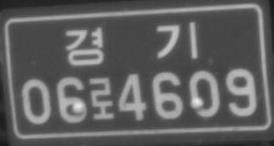0: (188, 69, 220, 119), (20, 77, 52, 126)
4: (118, 72, 146, 122)
6: (151, 70, 183, 120), (56, 75, 87, 125)
9: (225, 67, 257, 118)
경기_D: (64, 20, 198, 67)
로: (88, 76, 114, 120)
